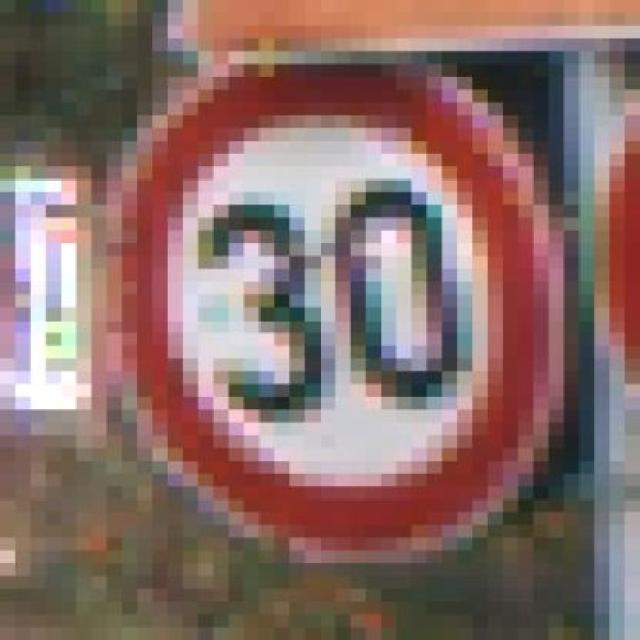forb_speed_over_30: (109, 63, 553, 549)
